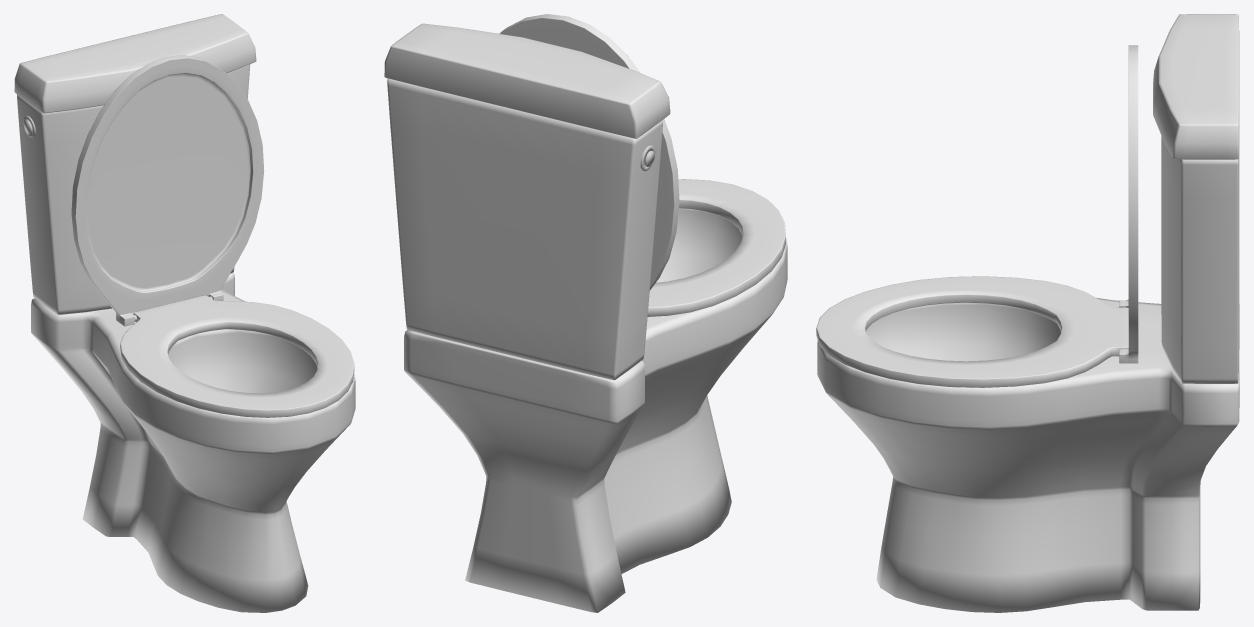
Rendered from bathroom_toilet_01.glb.
3 renders of one model, left to right at view 1: azimuth 30°, elevation 25°; view 2: azimuth 150°, elevation 25°; view 3: azimuth 270°, elevation 25°, orthographic. The views are drawn at different scales.
Parts seen in each view (by area): view 1: Toilet01, ToiletCover01, ToiletSeat01; view 2: Toilet01, ToiletSeat01, ToiletCover01; view 3: Toilet01, ToiletSeat01, ToiletCover01.
Boxes of the visible parts, bbox=[...] form: Toilet01: bbox=[14, 14, 355, 612]; ToiletCover01: bbox=[71, 55, 264, 326]; ToiletSeat01: bbox=[120, 295, 354, 417]; Toilet01: bbox=[384, 23, 787, 612]; ToiletSeat01: bbox=[647, 179, 785, 316]; ToiletCover01: bbox=[499, 14, 679, 290]; Toilet01: bbox=[817, 14, 1239, 612]; ToiletSeat01: bbox=[816, 276, 1128, 387]; ToiletCover01: bbox=[1119, 45, 1138, 363].
Size of the model in its own units: 0.3898 by 0.8136 by 0.5934.
Materials: 1 (1 with a texture image).
